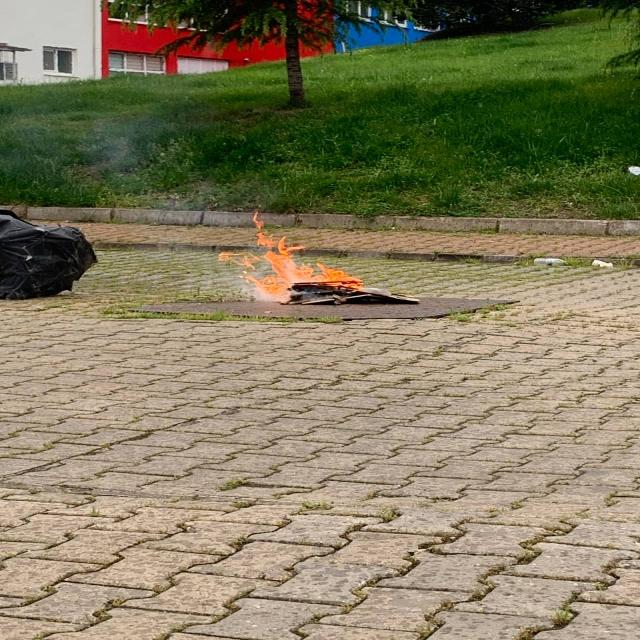fire: (209, 213, 362, 303)
